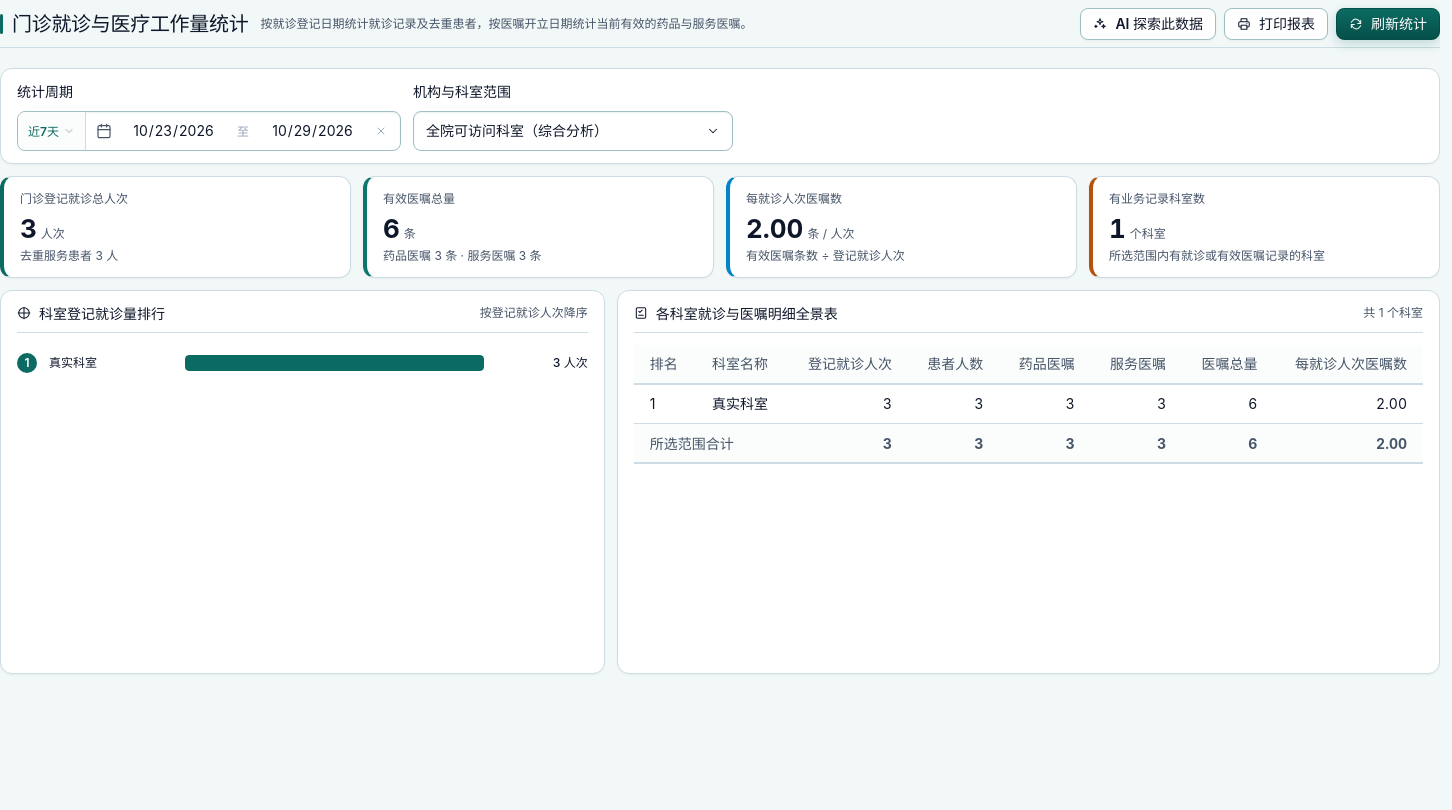
Test case: workload report real data states › hides previous counts after a failed refresh
The image size is (1452, 810).
Expected: the text "门诊登记就诊总人次" is shown, x1=20 y1=191 x2=128 y2=206
Click the button "刷新统计": x=1388, y=24 x1=1336 y1=8 x2=1440 y2=40
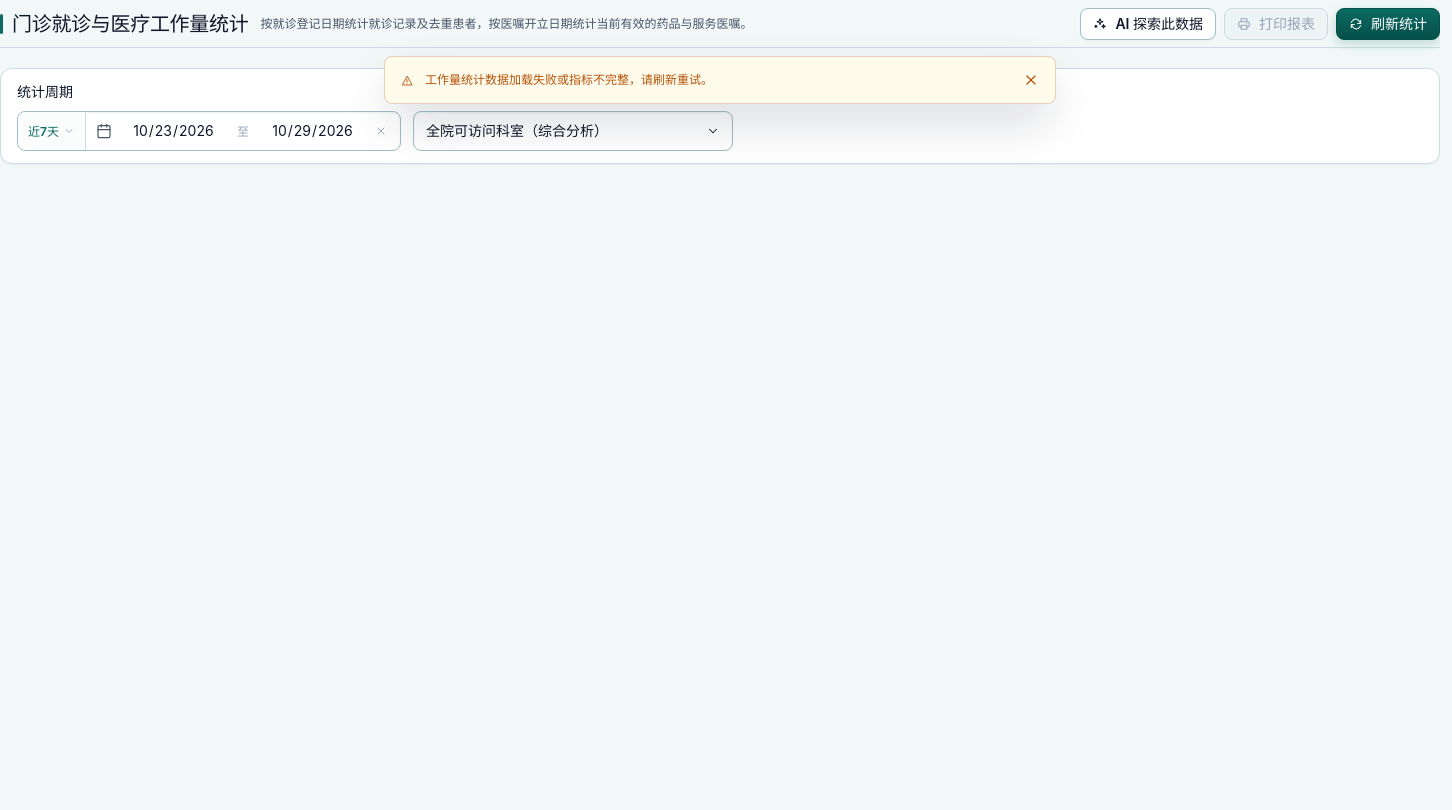
Now the text "工作量统计数据加载失败或指标不完整，请刷新重试。" is shown, box x1=425 y1=72 x2=713 y2=87
Now the text "门诊登记就诊总人次" is gone
Now the text "真实科室" is gone
